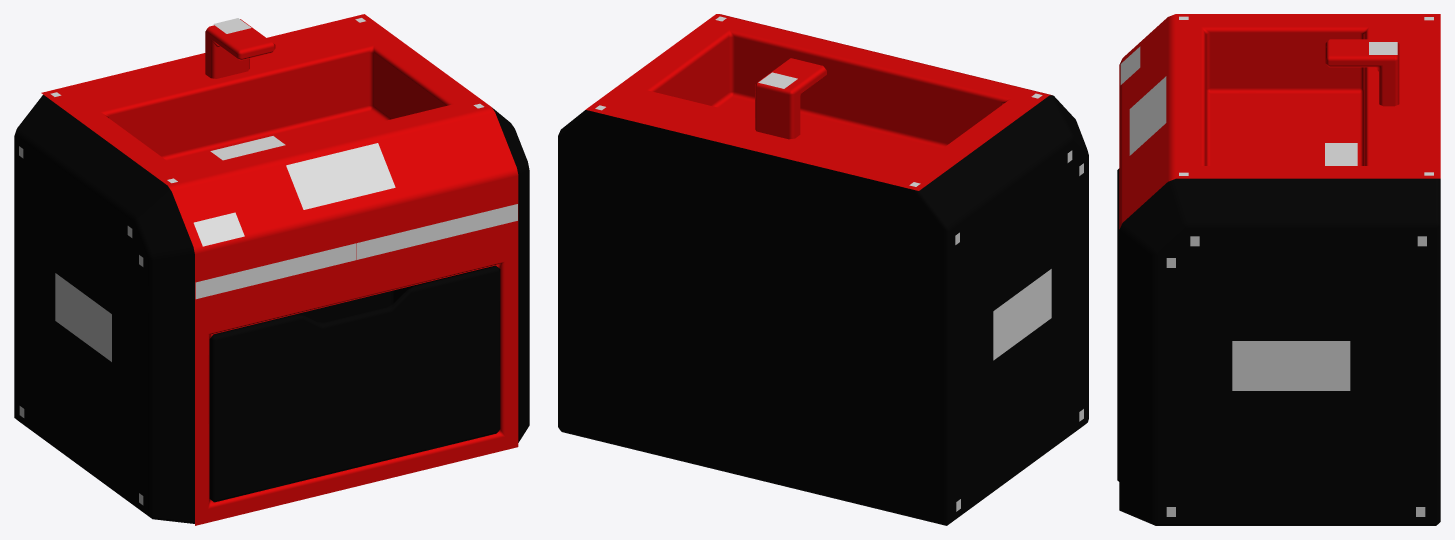
Rendered from bathroom_sink.glb.
The picture shows the model from 3 angles, left to right: view 1: azimuth 30°, elevation 25°; view 2: azimuth 150°, elevation 25°; view 3: azimuth 270°, elevation 25°; orthographic projection. The views are drawn at different scales.
Visible parts, largest first — view 1: bathroom_sink, bathroom_sink_storage, bathroom_sink_decals; view 2: bathroom_sink, bathroom_sink_decals; view 3: bathroom_sink, bathroom_sink_decals, bathroom_sink_storage.
Boxes of the visible parts, <box> form: bathroom_sink: <box>14,14,529,525</box>; bathroom_sink_storage: <box>209,265,500,502</box>; bathroom_sink_decals: <box>19,18,517,505</box>; bathroom_sink: <box>558,14,1088,525</box>; bathroom_sink_decals: <box>595,16,1083,511</box>; bathroom_sink: <box>1119,14,1440,525</box>; bathroom_sink_decals: <box>1120,16,1433,516</box>; bathroom_sink_storage: <box>1117,168,1122,481</box>.
Bounding box in the file's own units: 1 × 0.9214 × 0.7045.
